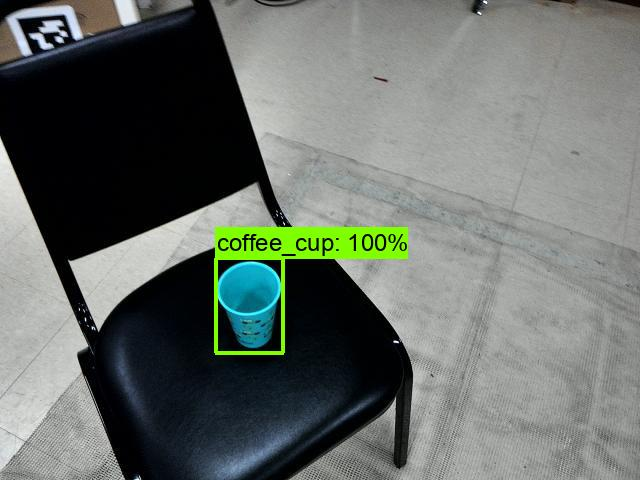coffee_cup: (216, 261, 283, 351)
